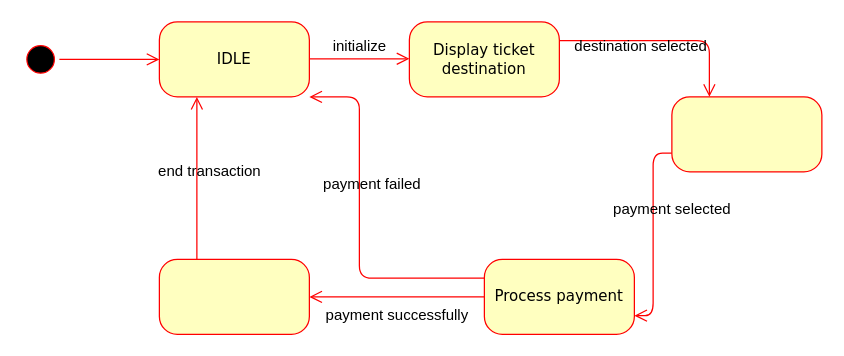
This 844x356 diagram has some shape labels left out. The shapes that lost their labels are listed below. From the top down, each one's centre as x and y in pixels, then its label:
(746,134): Display payment method
(233,296): Issue Ticket
